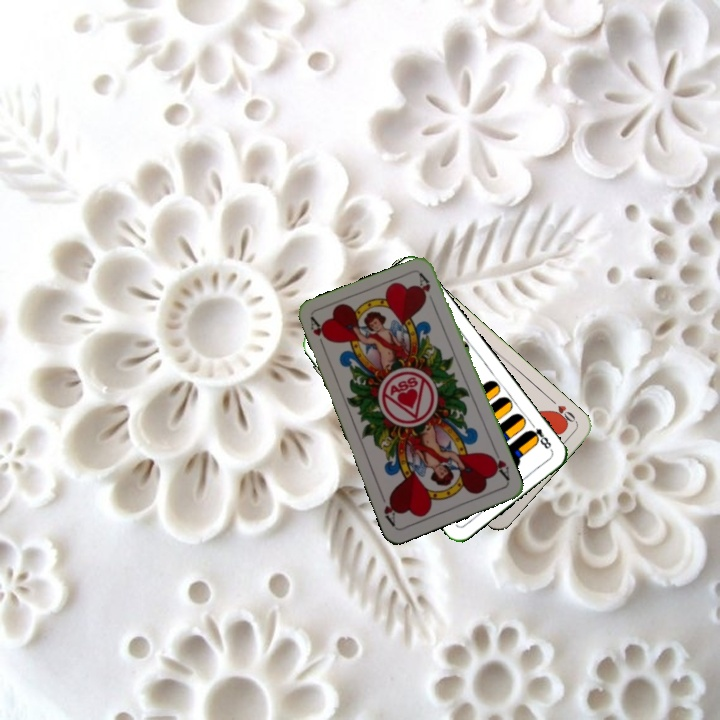E8: (524, 418, 555, 453)
HA: (485, 445, 513, 483), (306, 314, 332, 353)
HO: (546, 394, 579, 427)
